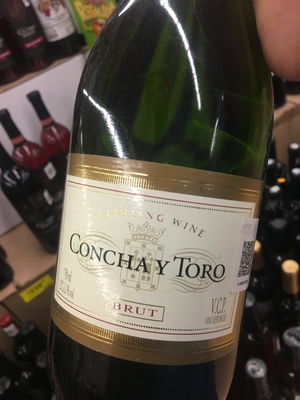brut: (43, 26, 273, 400)
